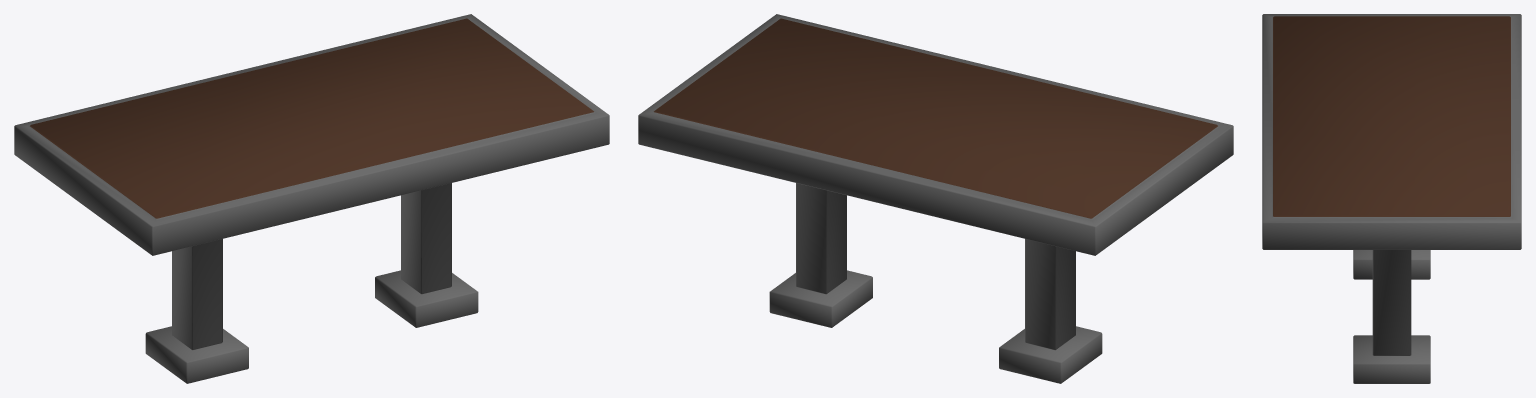
Rendered from bench.glb.
The picture shows the model from 3 angles, left to right: view 1: azimuth 30°, elevation 25°; view 2: azimuth 150°, elevation 25°; view 3: azimuth 270°, elevation 25°; orthographic projection. The views are drawn at different scales.
Visible parts, largest first — view 1: Cube.023; view 2: Cube.023; view 3: Cube.023.
Boxes of the visible parts, x1,y1,x2,y2 form: Cube.023: (14,14,609,383); Cube.023: (638,14,1233,383); Cube.023: (1262,14,1521,383).
Bounding box in the file's own units: 1.93 × 0.87 × 1.01.
1 material, 1 textured.
